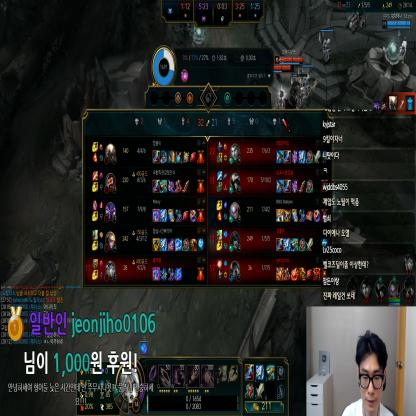donation: (6, 301, 155, 416)
streamer: (342, 329, 394, 416)
